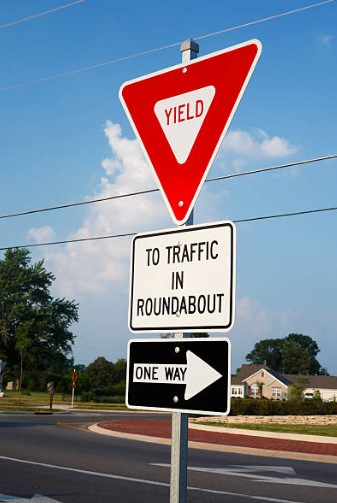Yeild: (117, 37, 264, 225)
